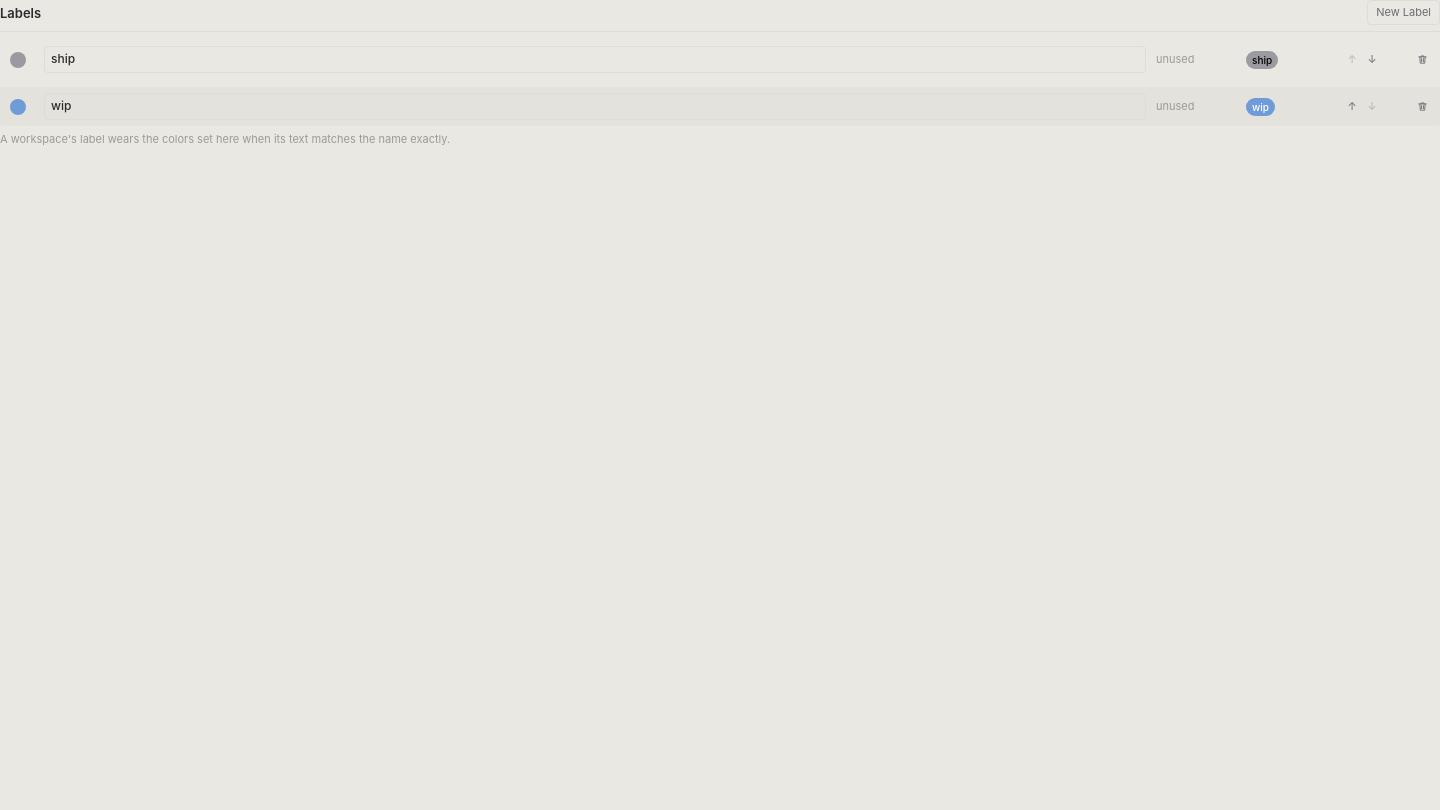
Scenario: the row’s swatch trigger (§N38) › is a disclosure, not a colour: haspopup + expanded, and it paints the background
The width and height of the screenshot is (1440, 810).
Click the button with test id "label-color-ship-trigger" at {"x": 18, "y": 60}, box x1=10 y1=52 x2=26 y2=68
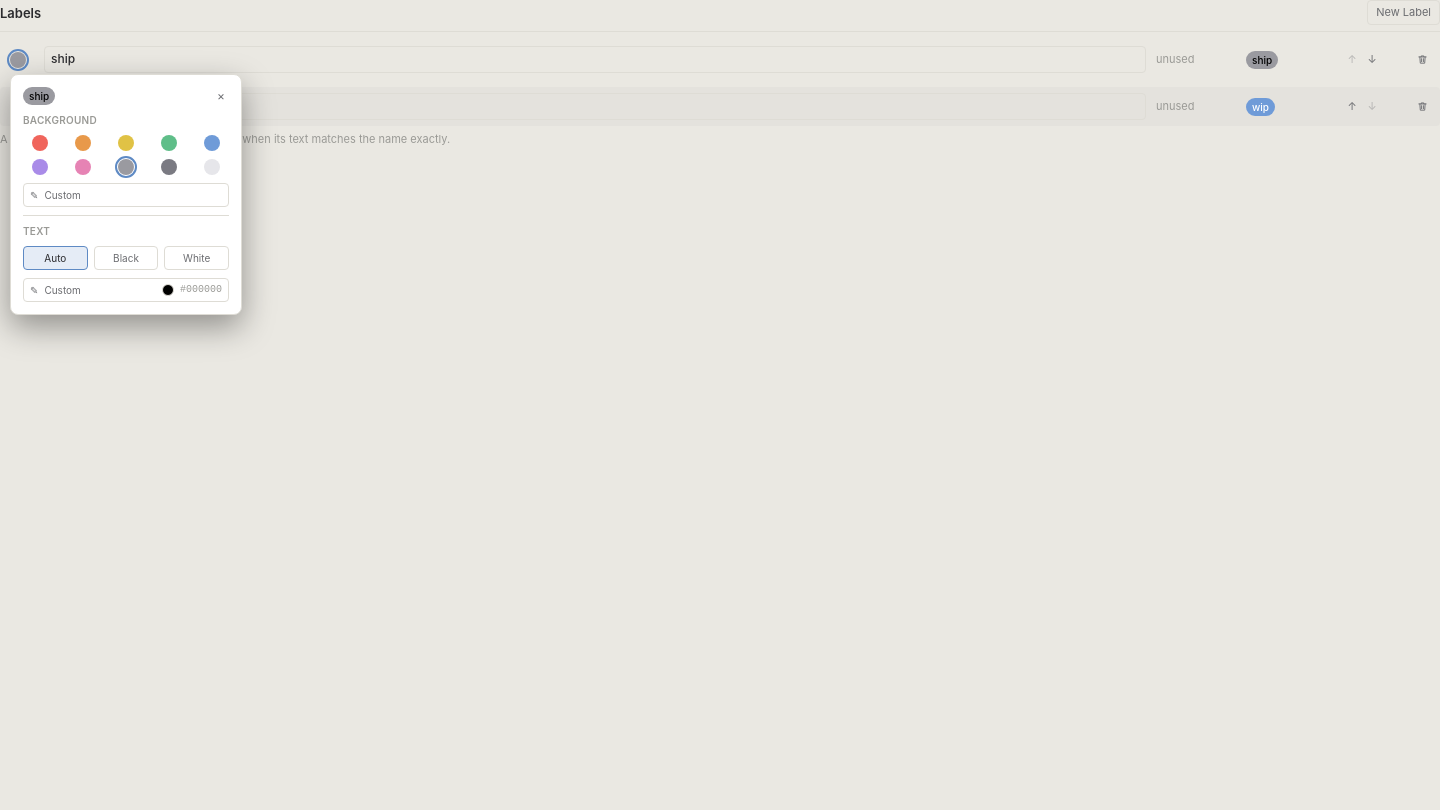
Expected: the 1st text "ship" is shown, x1=1246 y1=51 x2=1278 y2=69
Expected: the button with test id "label-color-ship-trigger" is expanded, x1=10 y1=52 x2=26 y2=68
